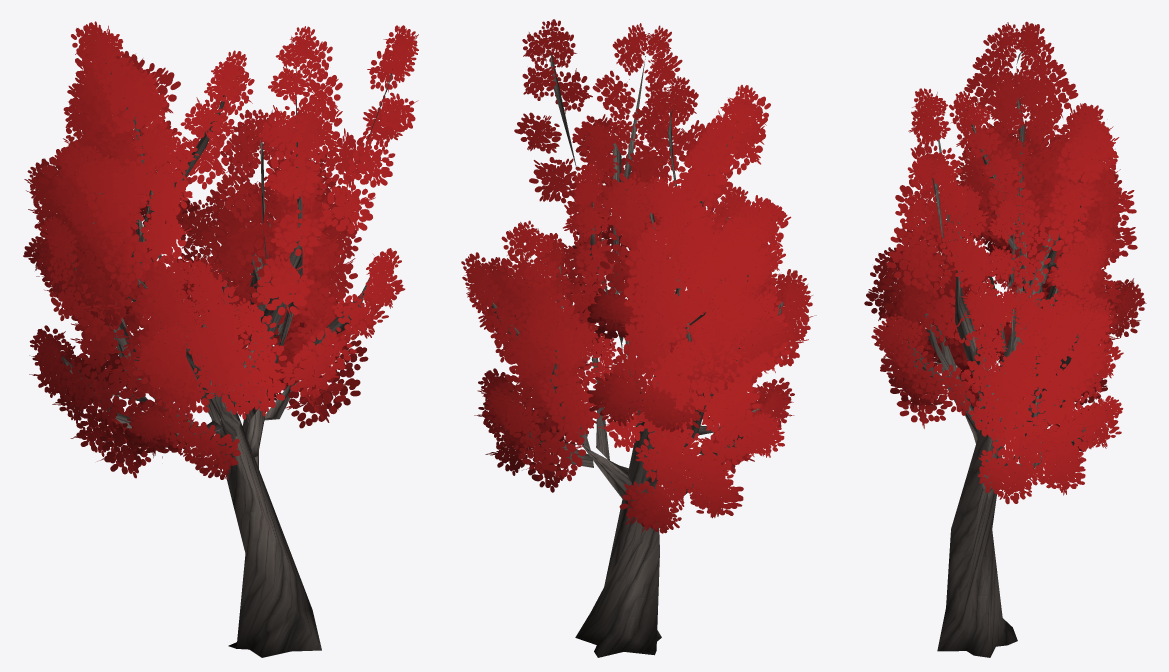
File: TwistedTree_2@lod.gltf
The picture shows the model from 3 angles, left to right: view 1: azimuth 30°, elevation 25°; view 2: azimuth 150°, elevation 25°; view 3: azimuth 270°, elevation 25°; orthographic projection. The views are drawn at different scales.
Parts seen in each view (by area): view 1: TwistedTree_2; view 2: TwistedTree_2; view 3: TwistedTree_2.
Part boxes in pixels (<box>): TwistedTree_2: <box>23,21,418,657</box>; TwistedTree_2: <box>461,19,816,657</box>; TwistedTree_2: <box>864,21,1146,657</box>.
Bounding box in the file's own units: 10.56 × 18.95 × 9.2.
2 materials, 2 textured.
